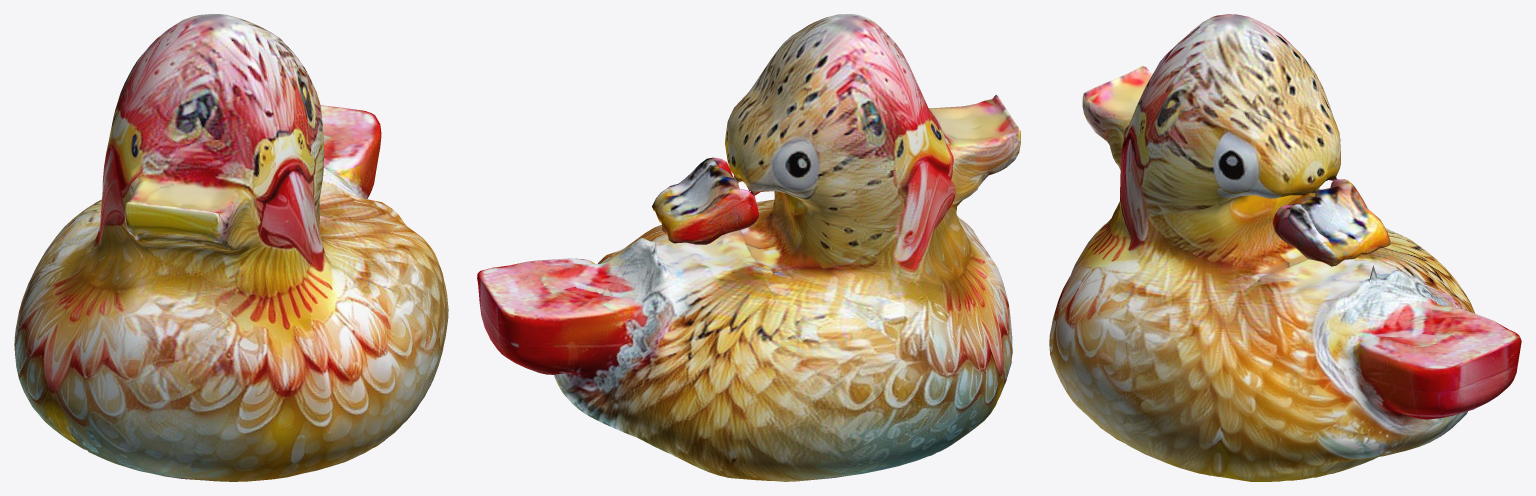
The model's file is rubber_ducky_1.glb.
The picture shows the model from 3 angles, left to right: view 1: azimuth 30°, elevation 25°; view 2: azimuth 150°, elevation 25°; view 3: azimuth 270°, elevation 25°; orthographic projection. The views are drawn at different scales.
Bounding box in the file's own units: 0.9977 × 0.9523 × 1.
1 material, 1 textured.
